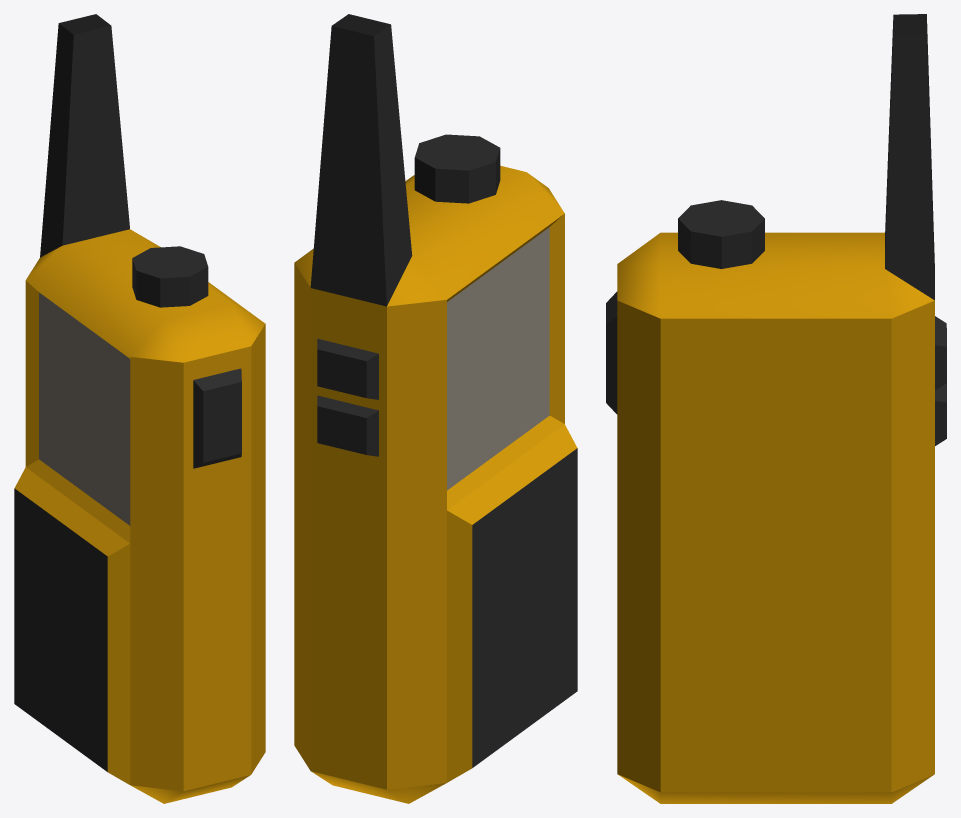
File: jsmith_walkieTalkie.fbx
3 views of the same model, side by side, from view 1: azimuth 30°, elevation 25°; view 2: azimuth 150°, elevation 25°; view 3: azimuth 270°, elevation 25° (orthographic). The views are drawn at different scales.
Parts seen in each view (by area): view 1: polySurface16; view 2: polySurface16; view 3: polySurface16.
Boxes of the visible parts, left/top/right/bottom form: polySurface16: left=14, top=14, right=265, bottom=803; polySurface16: left=294, top=14, right=577, bottom=803; polySurface16: left=606, top=14, right=946, bottom=803.
Bounding box in the file's own units: 0.5562 × 2.41 × 0.9764.
